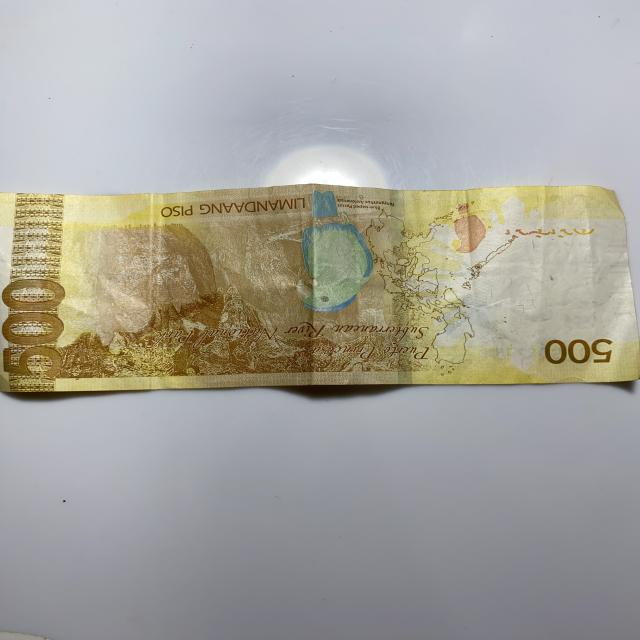500_big_parrot: (288, 186, 377, 314)
500_parrot_watermark: (443, 200, 490, 256)
value_watermark: (583, 252, 606, 288)
